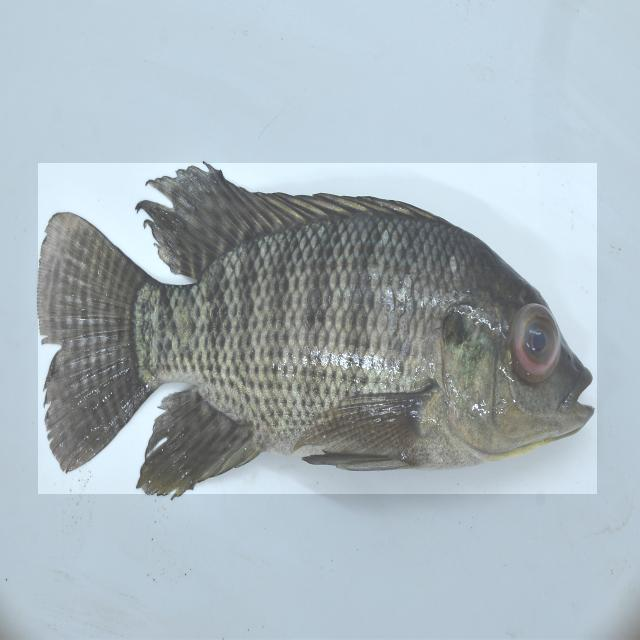streptococcus Disease: (38, 163, 597, 494)
